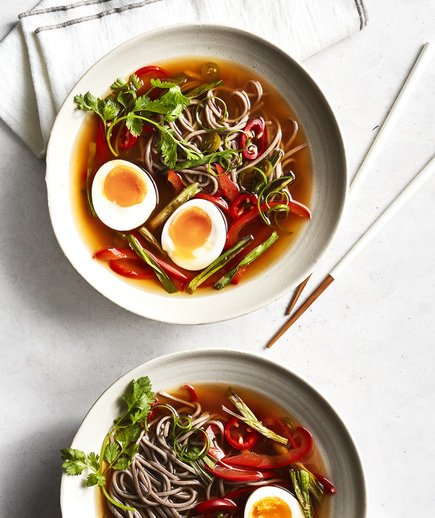Soba: (142, 90, 292, 204), (120, 400, 224, 518)
